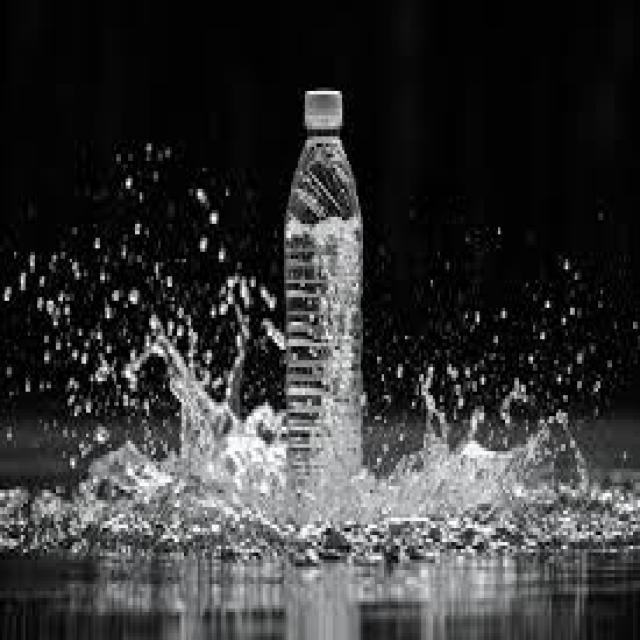bottle: (266, 68, 390, 588)
